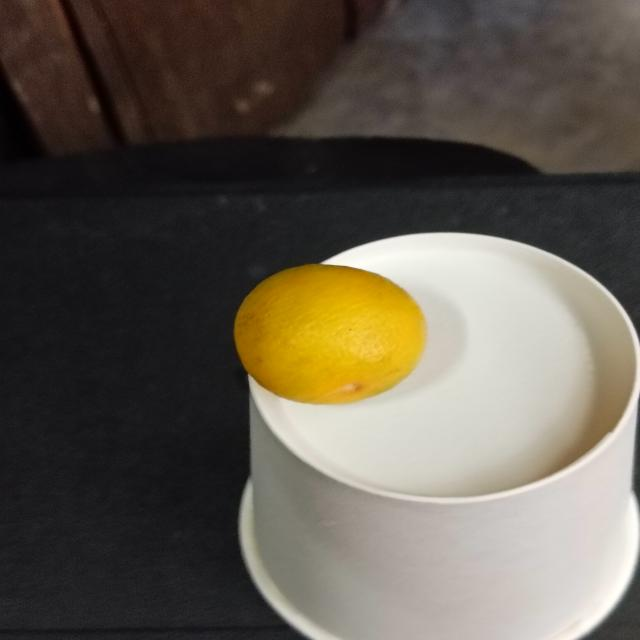greening: (228, 256, 432, 403)
